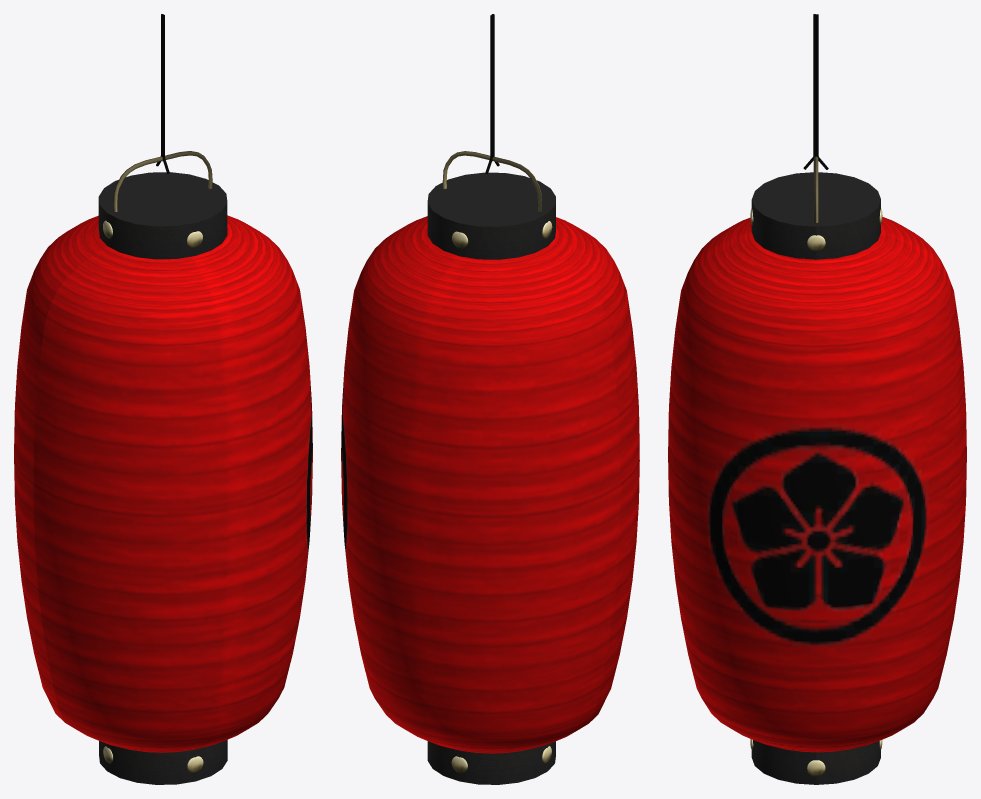
The model's file is Lantern2.a.fbx.
The picture shows the model from 3 angles, left to right: view 1: azimuth 30°, elevation 25°; view 2: azimuth 150°, elevation 25°; view 3: azimuth 270°, elevation 25°; orthographic projection.
Parts seen in each view (by area): view 1: Group 0; view 2: Group 0; view 3: Group 0.
Part boxes in pixels (x1,y1,x2,y2): Group 0: [14, 14, 312, 784]; Group 0: [341, 14, 639, 784]; Group 0: [668, 14, 966, 784].
Size of the model in its own units: 45.99 by 125 by 45.74.
1 material, 1 textured.
